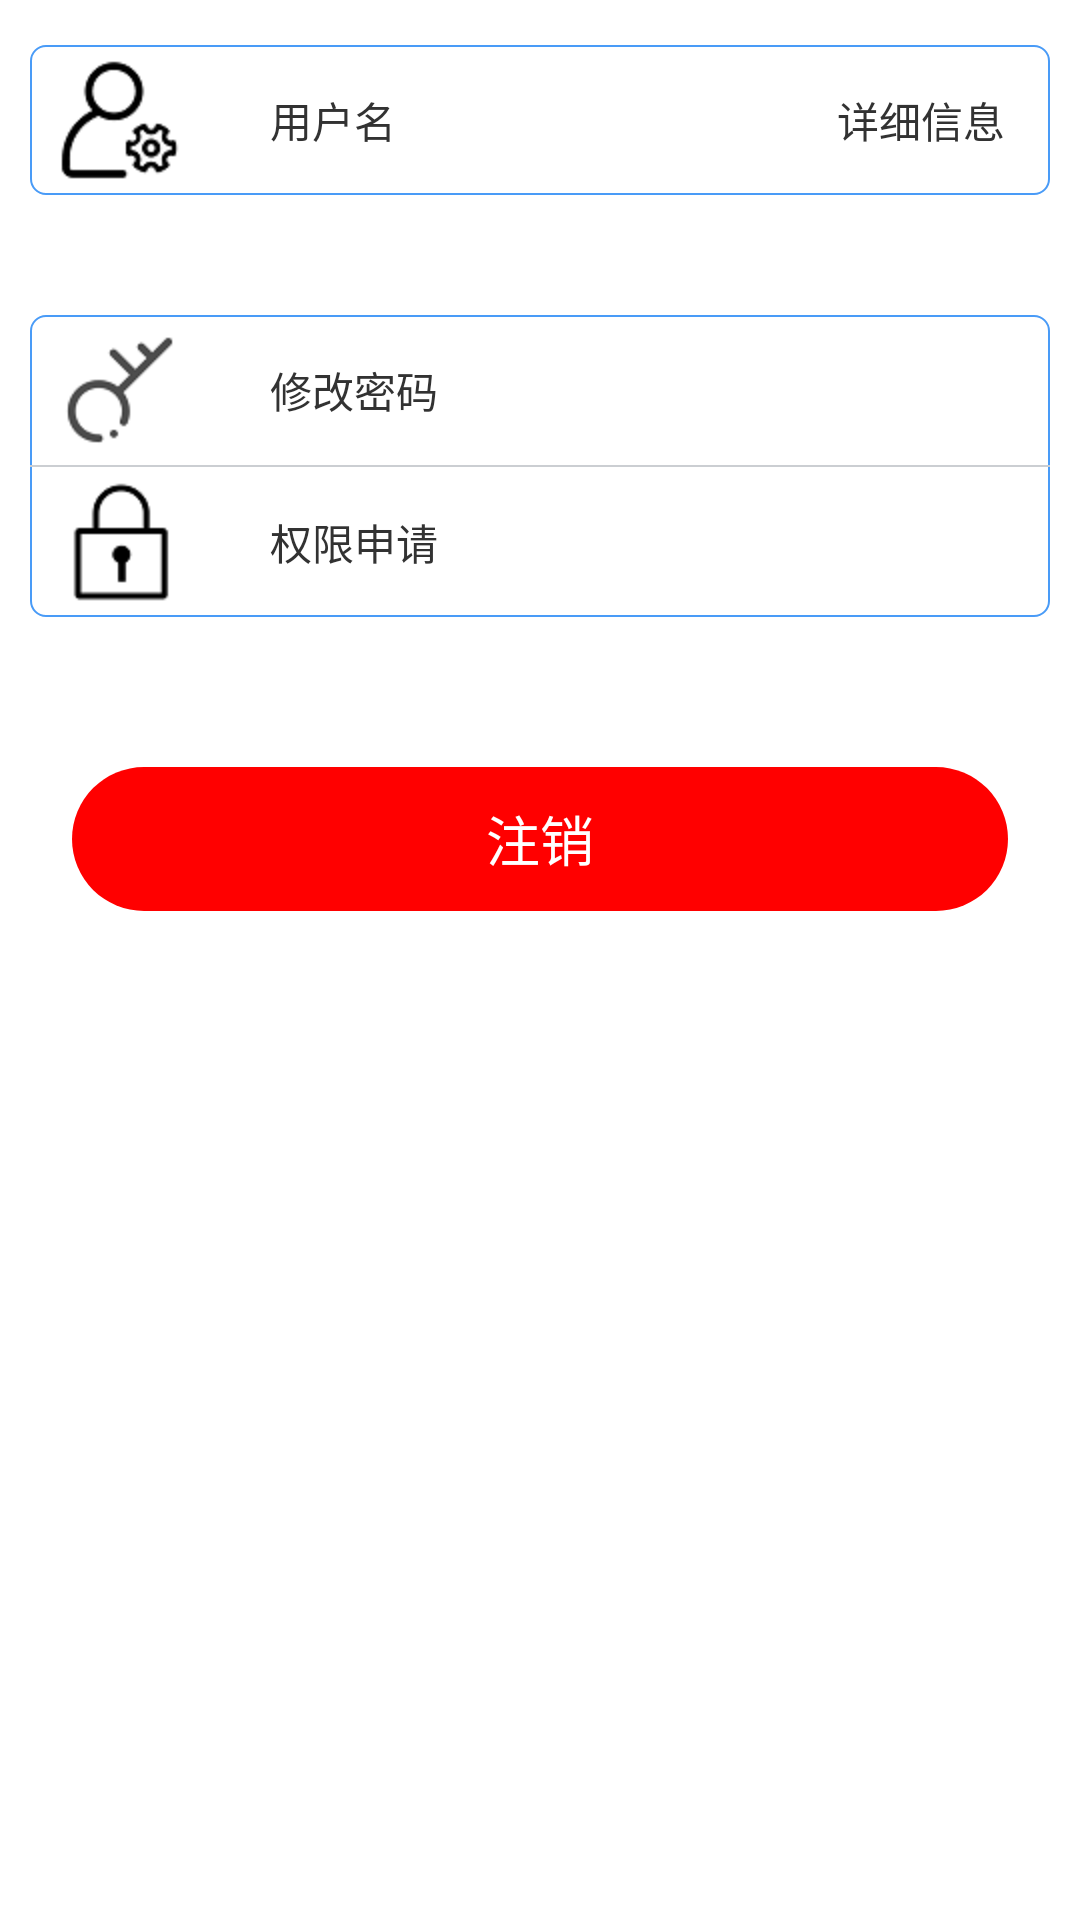

Point at icon controls on the screen. Image size 1080x1920, points as [x,y].
editpassword: [120,390]
operator: [119,120]
